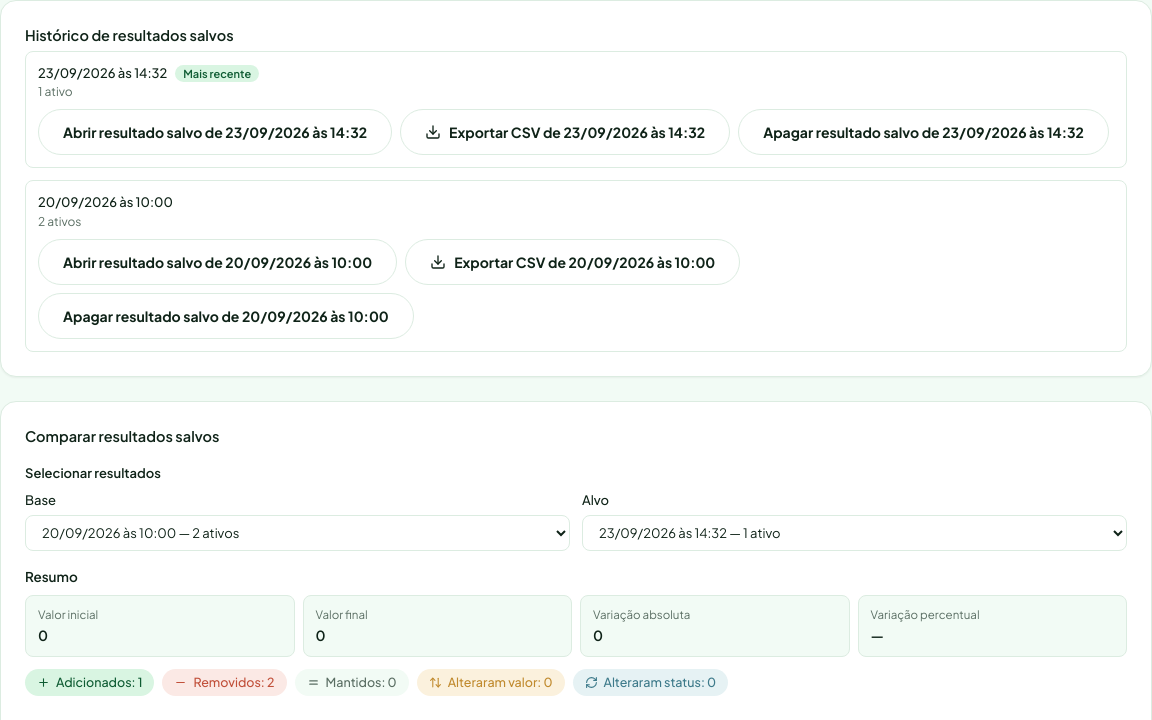
Test: apagar a specific entry › a 401 ends the session once and offers the safe sign-in
Click the button "Apagar resultado salvo de 20/09/2026 às 10:00".
click(226, 316)  # box [38, 293, 414, 339]
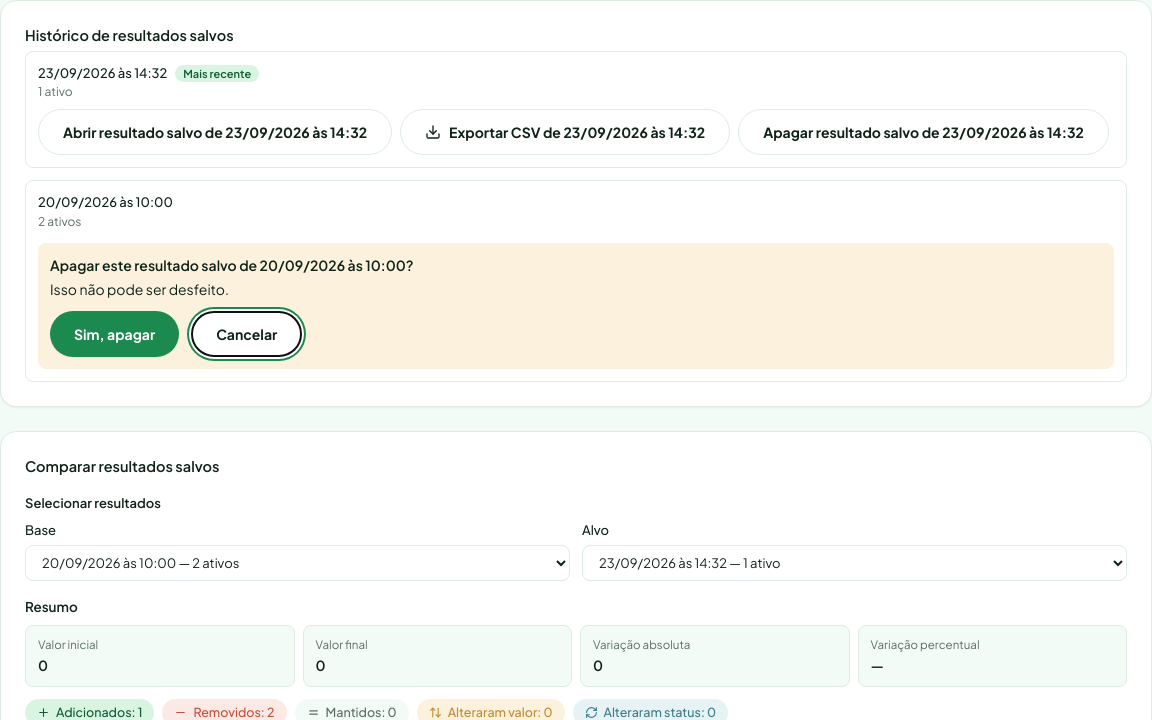
Click the button "Sim, apagar".
click(115, 334)  # box [50, 311, 179, 357]
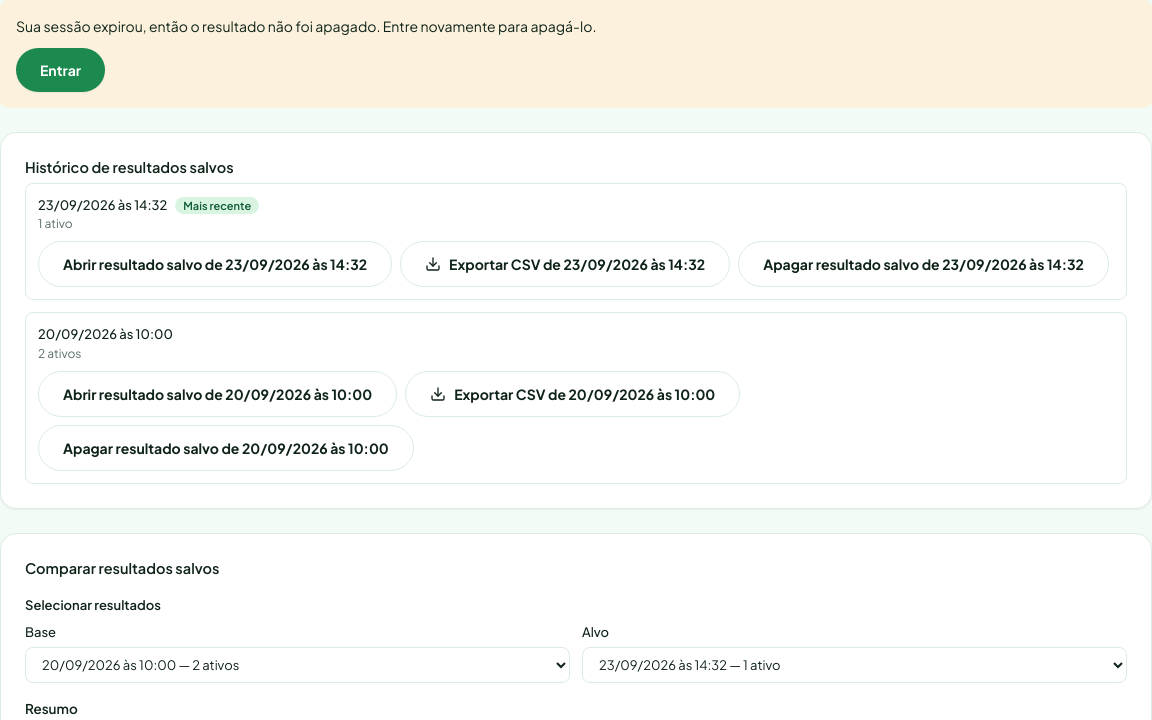
Result: the message shows "Sua sessão expirou" at [16, 17, 596, 35]
